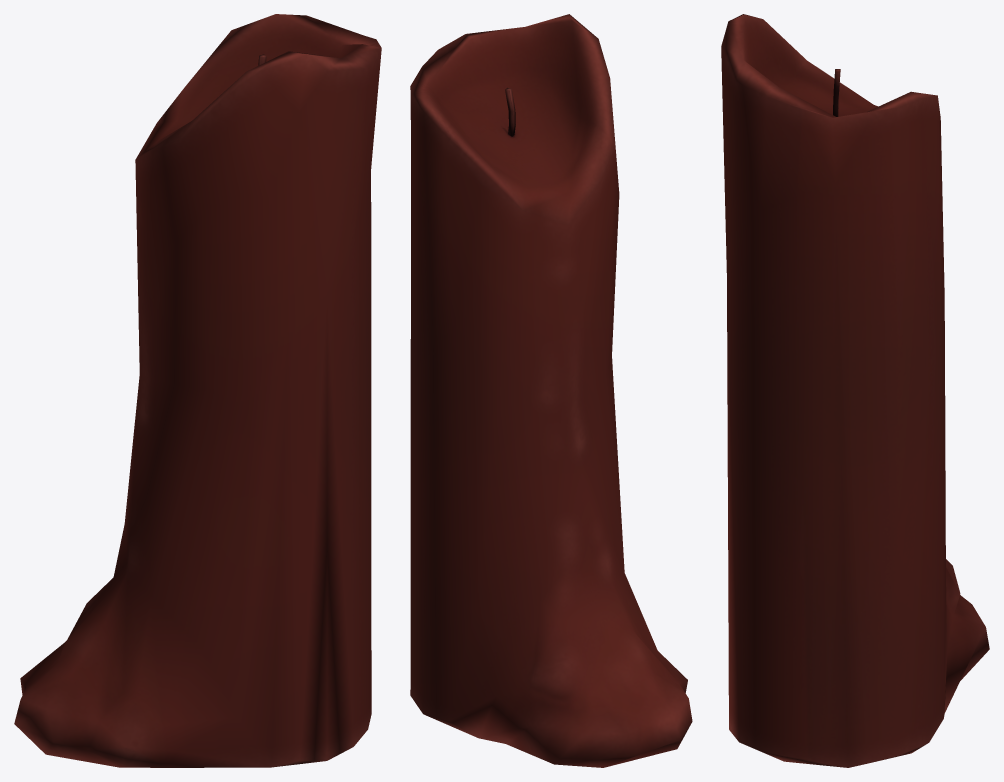
The model's file is SM_Candles_2.fbx.
3 views of the same model, side by side, from view 1: azimuth 30°, elevation 25°; view 2: azimuth 150°, elevation 25°; view 3: azimuth 270°, elevation 25° (orthographic). The views are drawn at different scales.
Parts seen in each view (by area): view 1: SM_Candles_2_LOD0; view 2: SM_Candles_2_LOD0; view 3: SM_Candles_2_LOD0.
Part boxes in pixels (box(x1,y1,x2,y2)): SM_Candles_2_LOD0: box(14, 14, 381, 767); SM_Candles_2_LOD0: box(410, 14, 692, 767); SM_Candles_2_LOD0: box(721, 14, 989, 767).
Bounding box in the file's own units: 12.08 × 9.05 × 25.99.
